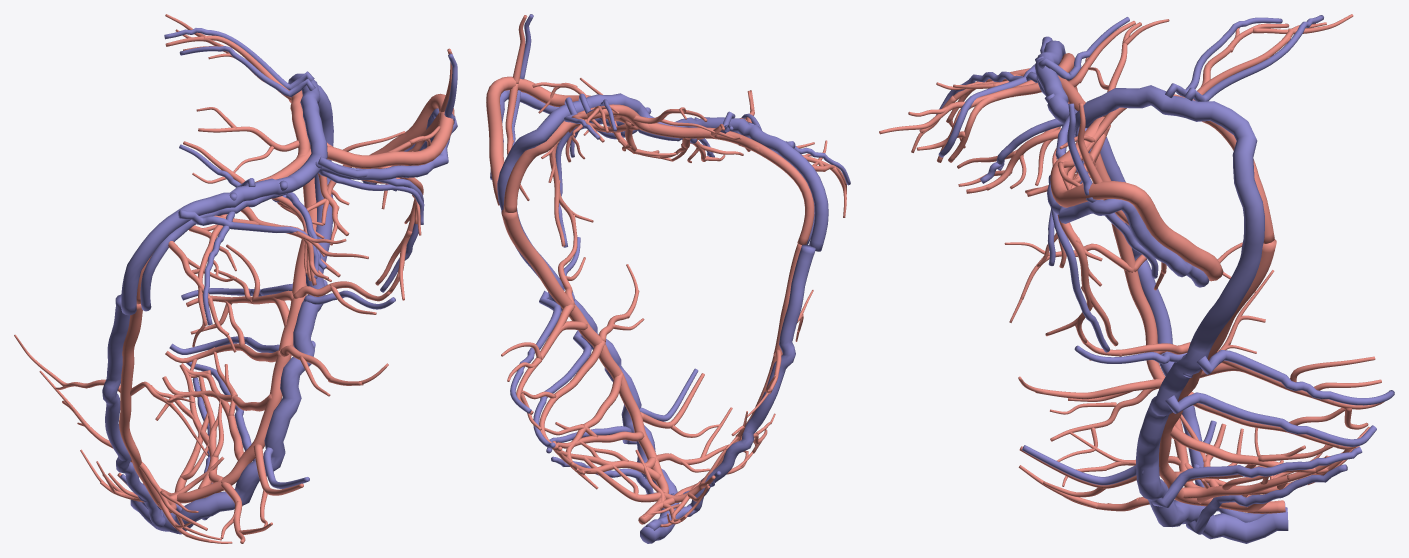
The model's file is vessels_12.glb.
The picture shows the model from 3 angles, left to right: view 1: azimuth 30°, elevation 25°; view 2: azimuth 150°, elevation 25°; view 3: azimuth 270°, elevation 25°; orthographic projection. The views are drawn at different scales.
Visible parts, largest first — view 1: Renderer Node; view 2: Renderer Node; view 3: Renderer Node.
Boxes of the visible parts, x1,y1,x2,y2 form: Renderer Node: (14, 14, 457, 543); Renderer Node: (486, 14, 850, 543); Renderer Node: (879, 14, 1394, 543).
Bounding box in the file's own units: 94.01 × 114 × 94.31.
